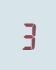three: (19, 20, 35, 50)
